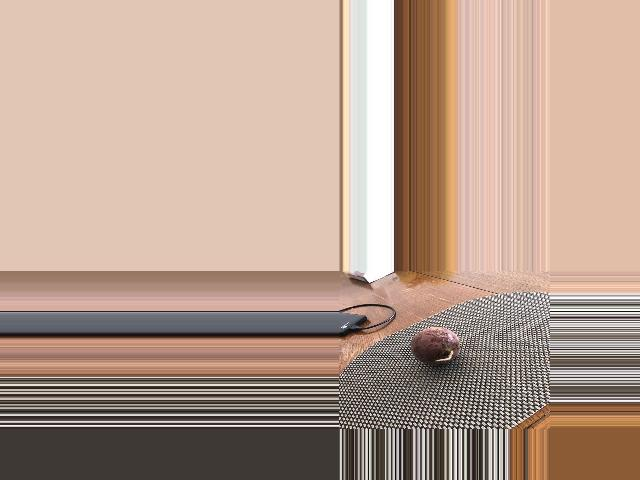beet: (410, 327, 459, 364)
